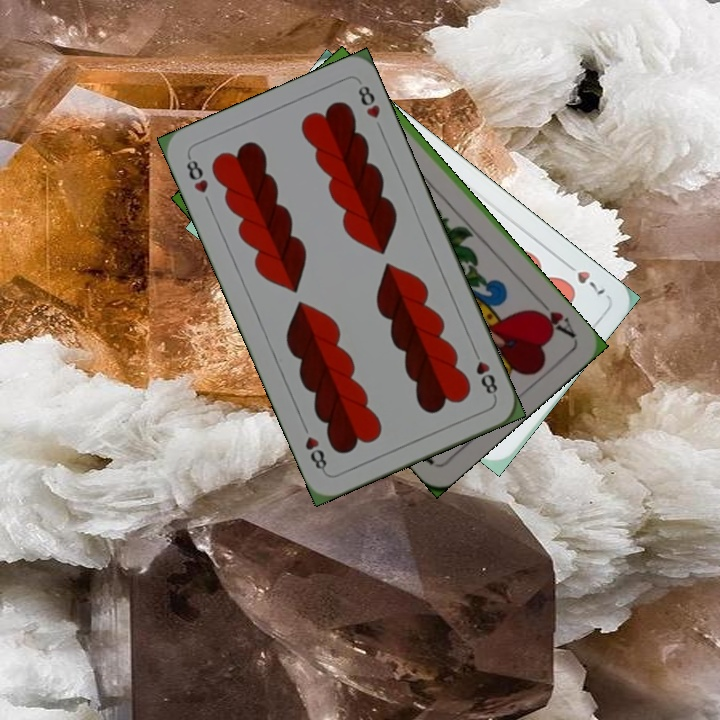H7: (559, 257, 608, 298)
H8: (469, 344, 500, 401), (182, 151, 211, 196)
HA: (528, 294, 579, 341)
